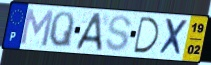A: (74, 12, 104, 52)
D: (132, 15, 160, 55)
M: (19, 7, 55, 49)
Q: (47, 10, 76, 50)
S: (104, 14, 133, 53)
X: (157, 17, 190, 58)
